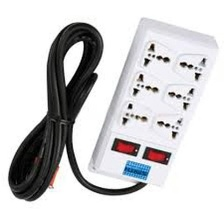three_eye_plug: (85, 12, 221, 191)
